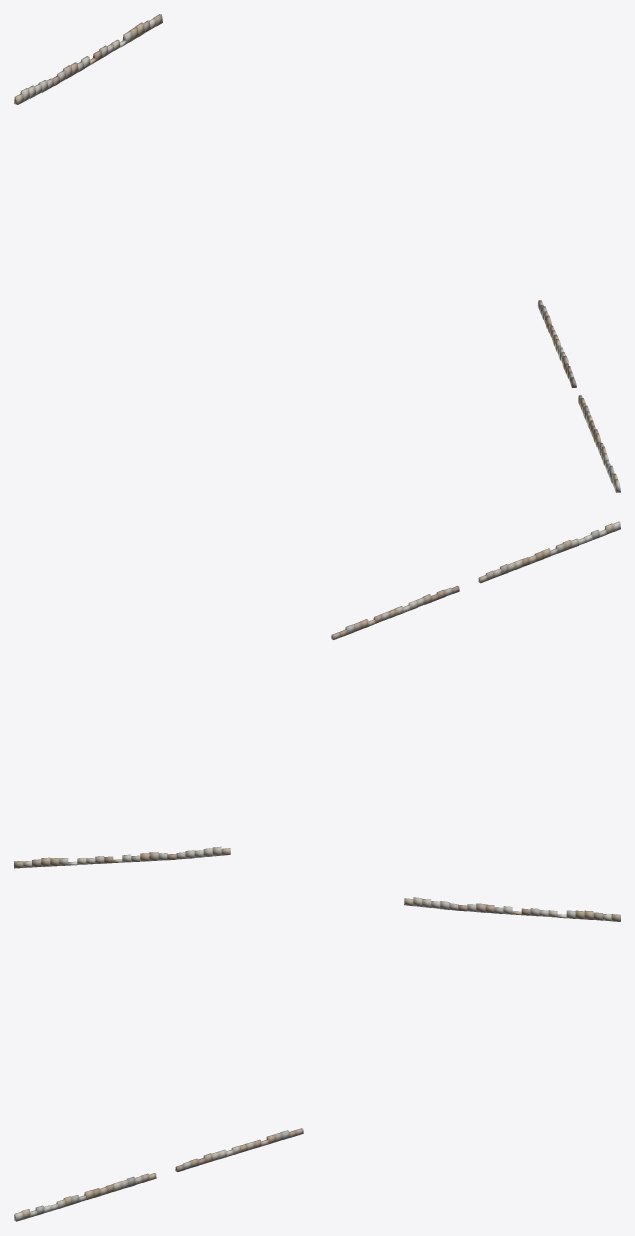
File: farm_9_11_far.glb
The picture shows the model from 3 angles, top to bottom: view 1: azimuth 30°, elevation 25°; view 2: azimuth 150°, elevation 25°; view 3: azimuth 330°, elevation 25°; orthographic projection. The views are drawn at different scales.
Visible parts, largest first — view 1: geometry_0; view 2: geometry_0; view 3: geometry_0.
Part boxes in pixels (x1=…): geometry_0: x1=14, y1=14, x2=620, y2=492; geometry_0: x1=14, y1=521, x2=620, y2=868; geometry_0: x1=14, y1=897, x2=620, y2=1221.
Bounding box in the file's own units: 33.69 × 5.25 × 169.
